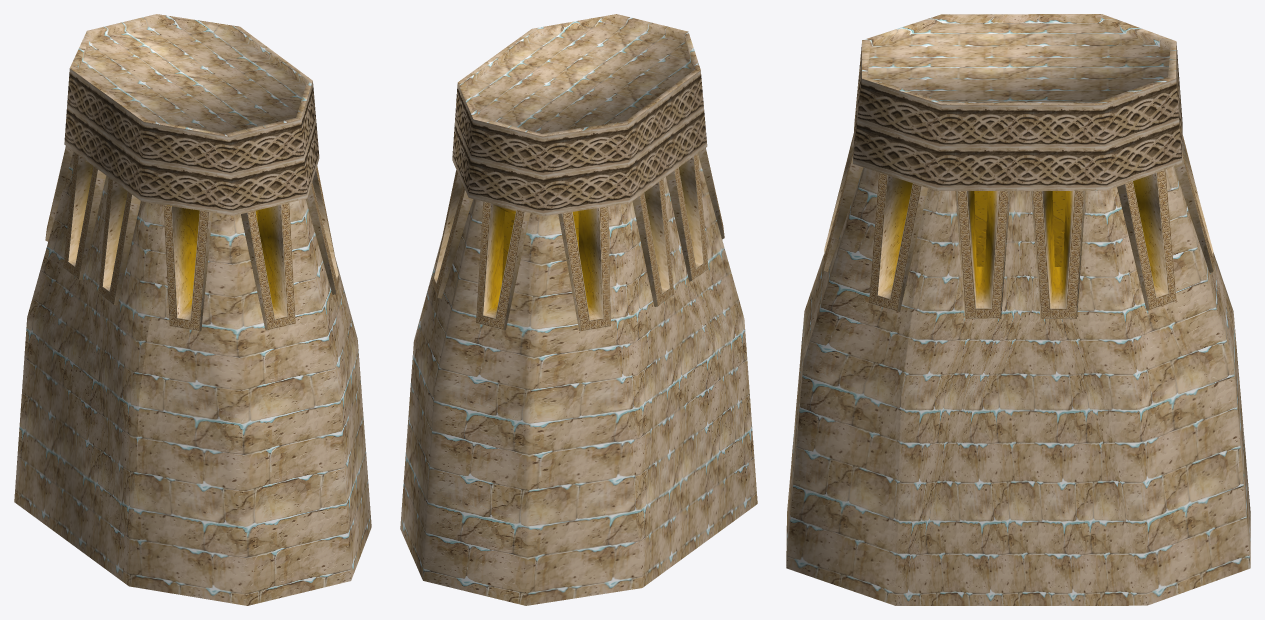
File: fortress03_05b.obj
The picture shows the model from 3 angles, left to right: view 1: azimuth 30°, elevation 25°; view 2: azimuth 150°, elevation 25°; view 3: azimuth 270°, elevation 25°; orthographic projection. The views are drawn at different scales.
Parts seen in each view (by area): view 1: Geoset0, Geoset1, Geoset3, Geoset2; view 2: Geoset0, Geoset1, Geoset3, Geoset2; view 3: Geoset0, Geoset1, Geoset3, Geoset2.
Part boxes in pixels (x1,y1,x2,y2): Geoset0: (14, 14, 371, 605); Geoset1: (64, 68, 319, 215); Geoset3: (45, 146, 338, 331); Geoset2: (45, 146, 339, 331); Geoset0: (400, 14, 757, 605); Geoset1: (452, 70, 707, 216); Geoset3: (434, 148, 724, 331); Geoset2: (432, 149, 724, 331); Geoset0: (786, 14, 1250, 605); Geoset1: (853, 42, 1182, 190); Geoset3: (824, 138, 1213, 318); Geoset2: (823, 133, 1213, 319).
Size of the model in its own units: 23.71 by 41.11 by 35.95.
4 materials, 4 textured.
